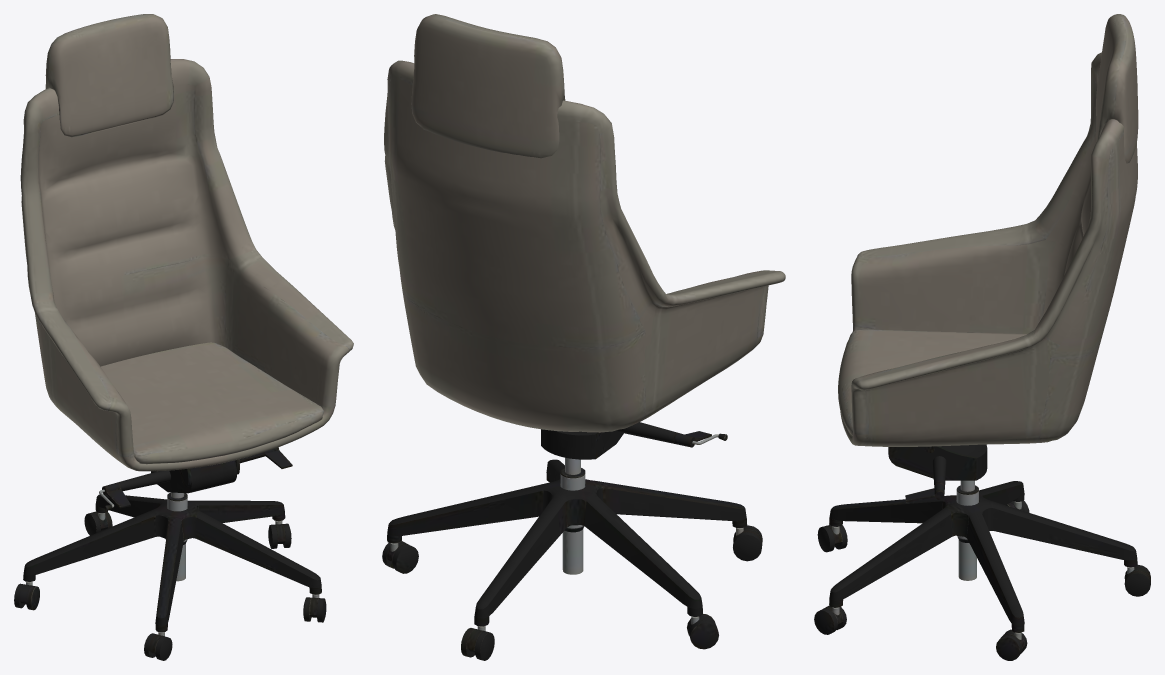
Rendered from beige_leather_office_chair.glb.
3 views of the same model, side by side, from view 1: azimuth 30°, elevation 25°; view 2: azimuth 150°, elevation 25°; view 3: azimuth 270°, elevation 25° (orthographic). The views are drawn at different scales.
Visible parts, largest first — view 1: LAS_Jera_high.001; view 2: LAS_Jera_high.001; view 3: LAS_Jera_high.001.
Part boxes in pixels (<box>): LAS_Jera_high.001: <box>14,14,353,660</box>; LAS_Jera_high.001: <box>382,14,785,660</box>; LAS_Jera_high.001: <box>814,14,1150,660</box>.
Bounding box in the file's own units: 0.7045 × 1.26 × 0.6911.
Materials: 1 (1 with a texture image).
